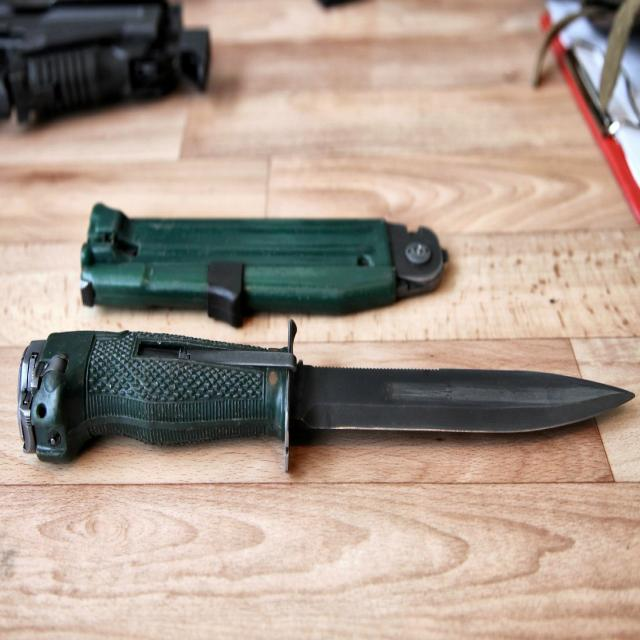knife: (14, 321, 636, 461), (77, 179, 445, 312), (12, 18, 222, 122)
